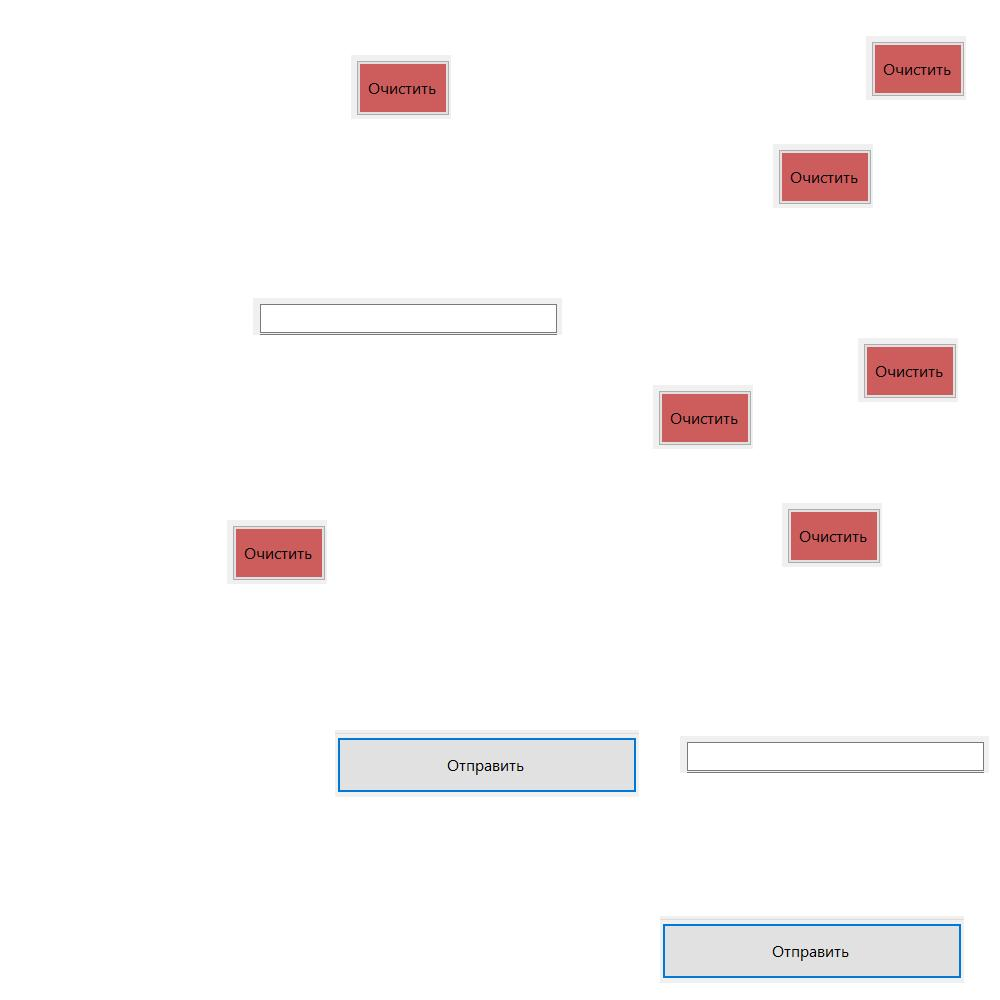Button: (660, 916, 964, 983), (335, 730, 639, 797), (227, 520, 327, 584), (351, 55, 451, 119), (858, 338, 958, 402), (773, 144, 873, 208), (653, 385, 753, 449), (866, 36, 966, 100), (782, 503, 882, 567)
EditText-: (253, 298, 562, 335), (680, 736, 989, 773)
